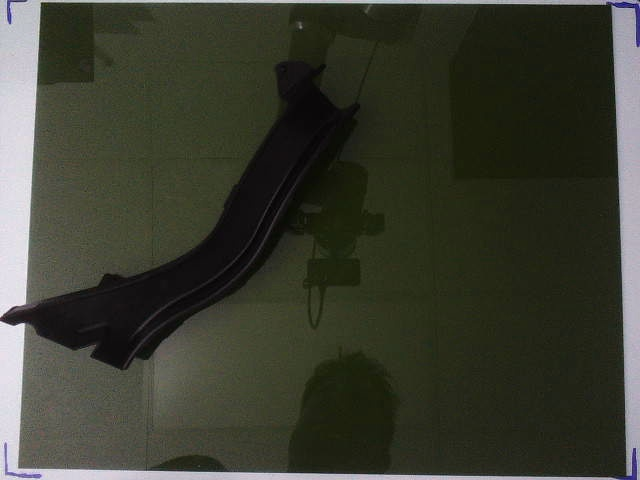887_A-Under: (1, 61, 360, 372)
